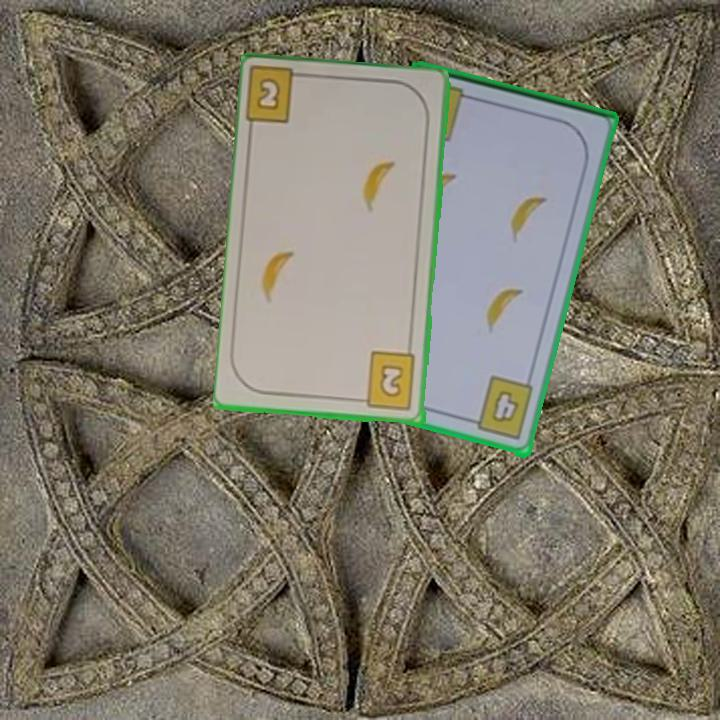2b: (245, 66, 314, 127), (354, 349, 419, 413)
4b: (464, 373, 537, 444)
